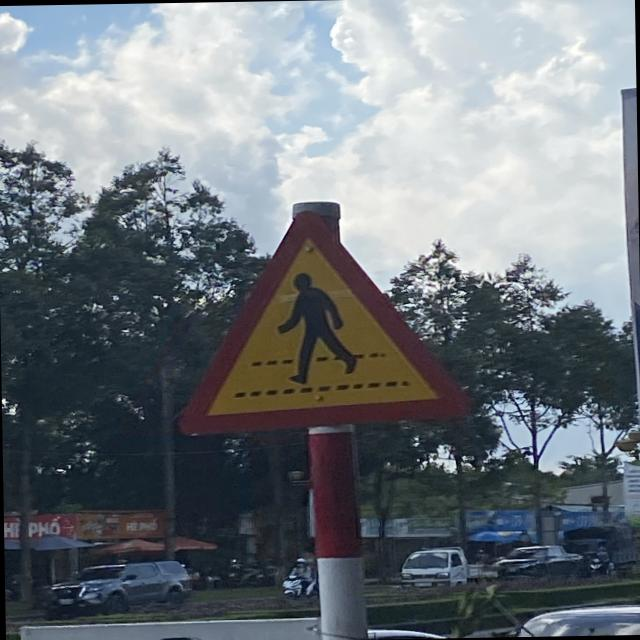Duong_Nguoi_Di_Bo_Sang_Ngang: (172, 208, 468, 438)
